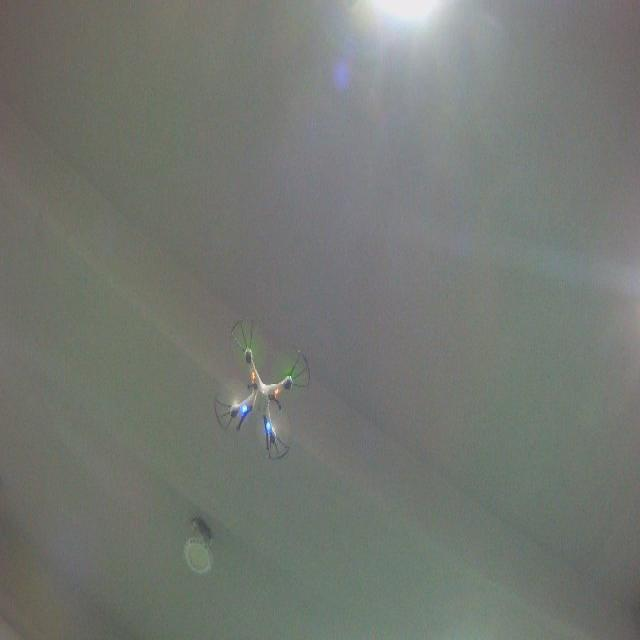drone: (214, 315, 313, 463)
